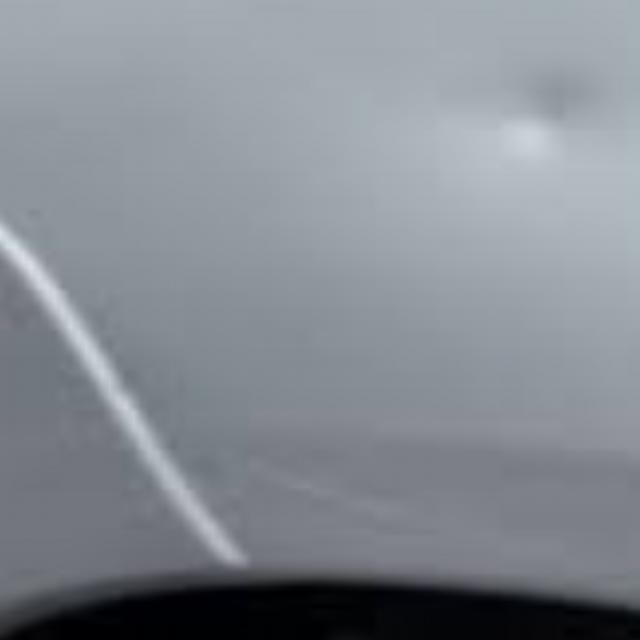dents: (496, 70, 640, 189)
